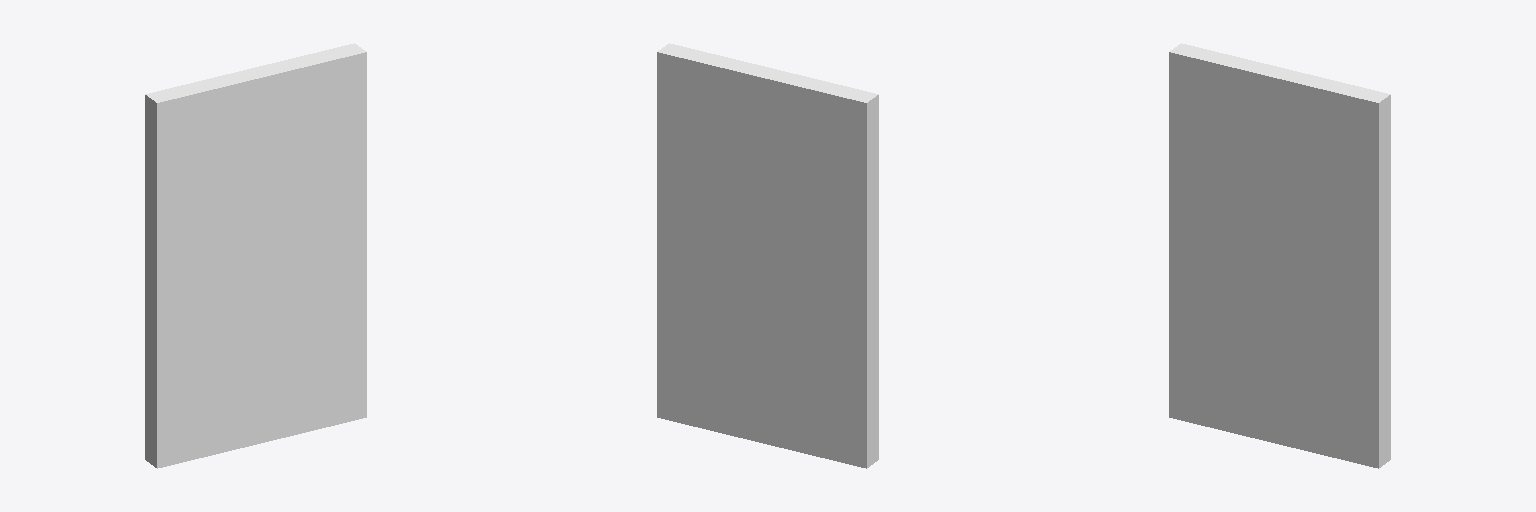
Rendered from towel_blue.obj.
The picture shows the model from 3 angles: view 1: azimuth 30°, elevation 25°; view 2: azimuth 150°, elevation 25°; view 3: azimuth 330°, elevation 25°; orthographic projection.
Parts seen in each view (by area): view 1: object 1; view 2: object 1; view 3: object 1.
Boxes of the visible parts, x1=… form: object 1: x1=145, y1=43, x2=366, y2=468; object 1: x1=657, y1=43, x2=878, y2=468; object 1: x1=1169, y1=43, x2=1390, y2=468.
Size of the model in its own units: 3 by 5 by 0.3.